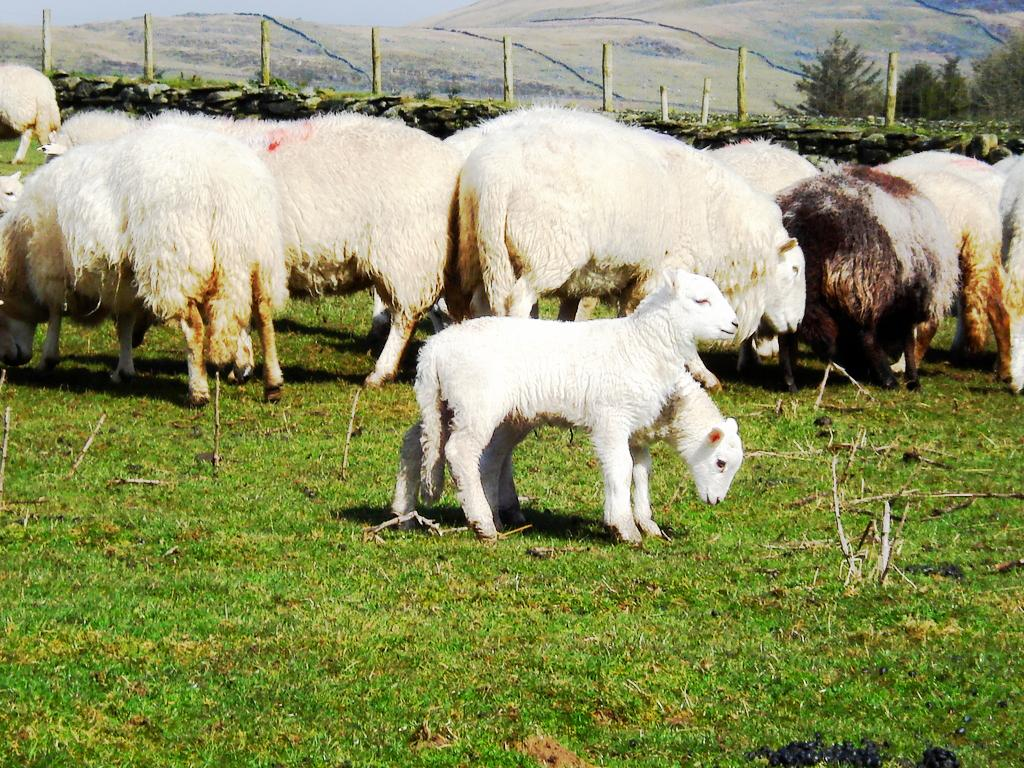Sheep: (406, 252, 744, 556), (468, 110, 812, 370), (2, 121, 286, 405), (474, 299, 752, 547), (240, 85, 456, 397), (779, 154, 953, 400), (878, 152, 1014, 384), (684, 137, 870, 250), (435, 99, 680, 181), (0, 169, 36, 345), (0, 63, 60, 163), (885, 150, 1000, 198), (36, 112, 135, 156)
